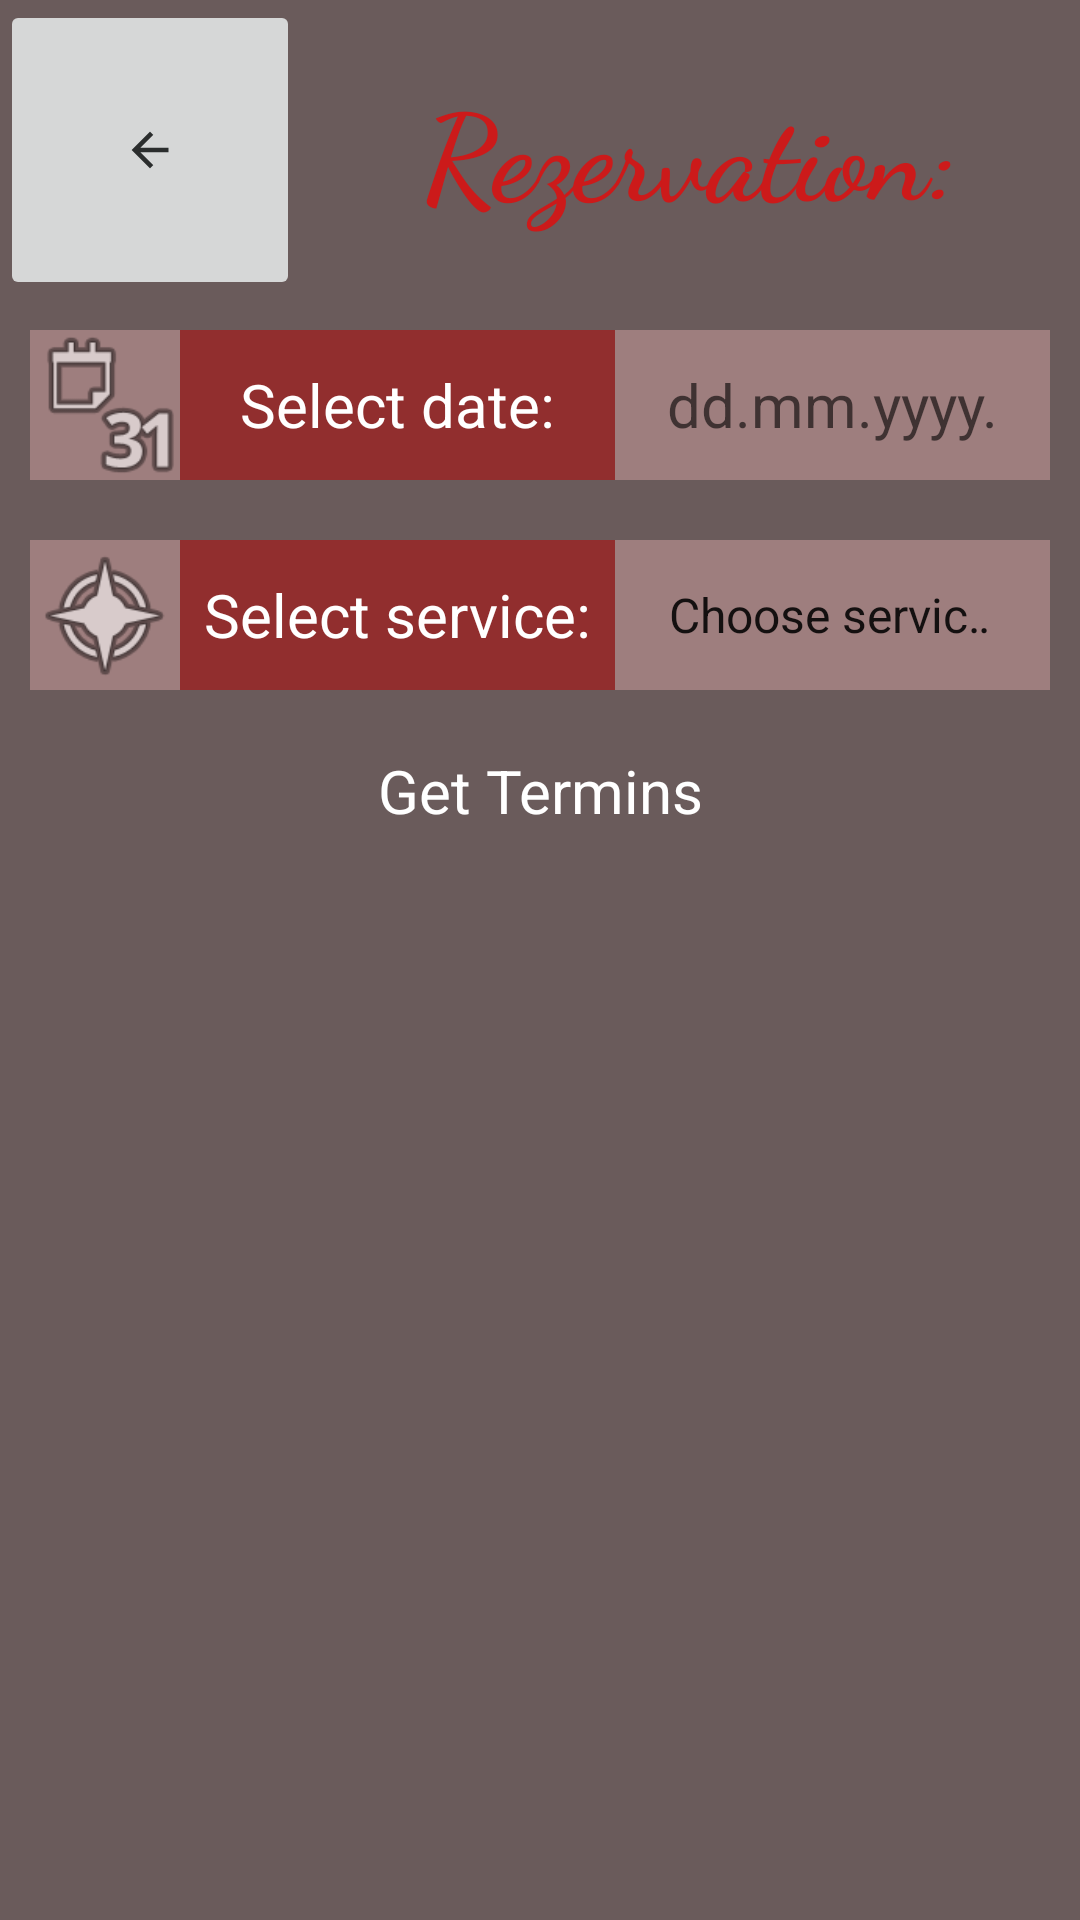

Where to tap for icons on this 1080w x 1920h app screen, as (x=x, y=y):
compass: (x=105, y=615)
month: (x=105, y=405)
